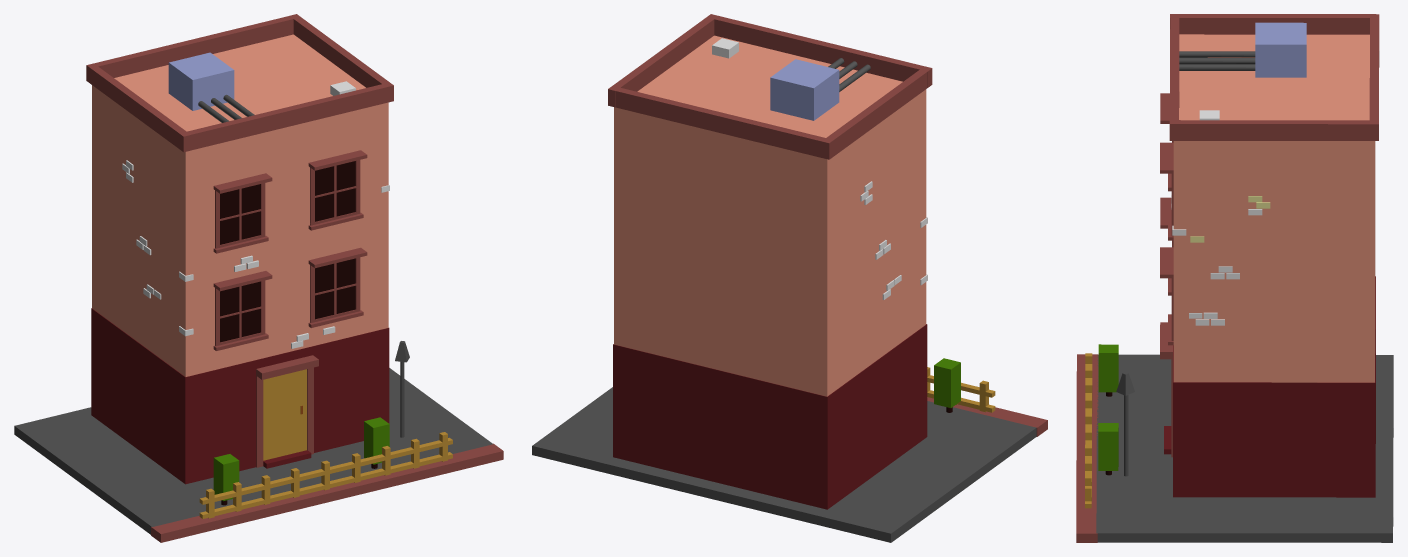
The model's file is uploads_files_2853605_Builiding.fbx.
3 views of the same model, side by side, from view 1: azimuth 30°, elevation 25°; view 2: azimuth 150°, elevation 25°; view 3: azimuth 270°, elevation 25° (orthographic). The views are drawn at different scales.
Visible parts, largest first — view 1: Cube.119, Cube.118, Cube.116, Cube.117, Cube.159, Cube.163, Cube.160, DoorPlane.002, Cube.127, Cube.124, Glass04.002, Glass03.002 (+8 smaller); view 2: Cube.119, Cube.118, Cube.116, Cube.117, Cube.127, Cube.159, Cube.161, Cube.160, Cube.163; view 3: Cube.119, Cube.118, Cube.116, Cube.117, Cube.159, Cube.163, Cube.127, Cube.160, Cube.161, Cube.162, Cube.123, Cube.121 (+7 smaller).
Boxes of the visible parts, x1,y1,x2,y2 form: Cube.119: (92, 34, 388, 376); Cube.118: (91, 308, 389, 484); Cube.116: (14, 368, 465, 515); Cube.117: (86, 14, 393, 152); Cube.159: (125, 424, 492, 534); Cube.163: (151, 443, 503, 542); Cube.160: (199, 432, 452, 518); DoorPlane.002: (263, 369, 306, 460); Cube.127: (168, 52, 234, 110); Cube.124: (256, 355, 318, 467); Glass04.002: (220, 184, 260, 244); Glass03.002: (315, 161, 355, 221); Cube.119: (614, 35, 926, 396); Cube.118: (613, 324, 927, 509); Cube.116: (532, 387, 1008, 542); Cube.117: (608, 14, 932, 159); Cube.127: (770, 59, 839, 120); Cube.159: (927, 401, 1036, 456); Cube.161: (934, 358, 960, 407); Cube.160: (927, 367, 995, 412); Cube.163: (927, 397, 1047, 436); Cube.119: (1173, 34, 1375, 382); Cube.118: (1173, 276, 1375, 497); Cube.116: (1155, 354, 1393, 542); Cube.117: (1169, 14, 1379, 140); Cube.159: (1096, 354, 1155, 542); Cube.163: (1076, 354, 1098, 542); Cube.127: (1255, 22, 1306, 77); Cube.160: (1085, 353, 1092, 508); Cube.161: (1098, 344, 1118, 392); Cube.162: (1098, 423, 1118, 470); Cube.123: (1160, 247, 1173, 345); Cube.121: (1160, 142, 1173, 240).
Bounding box in the file's own units: 4208 × 4402 × 3151.
